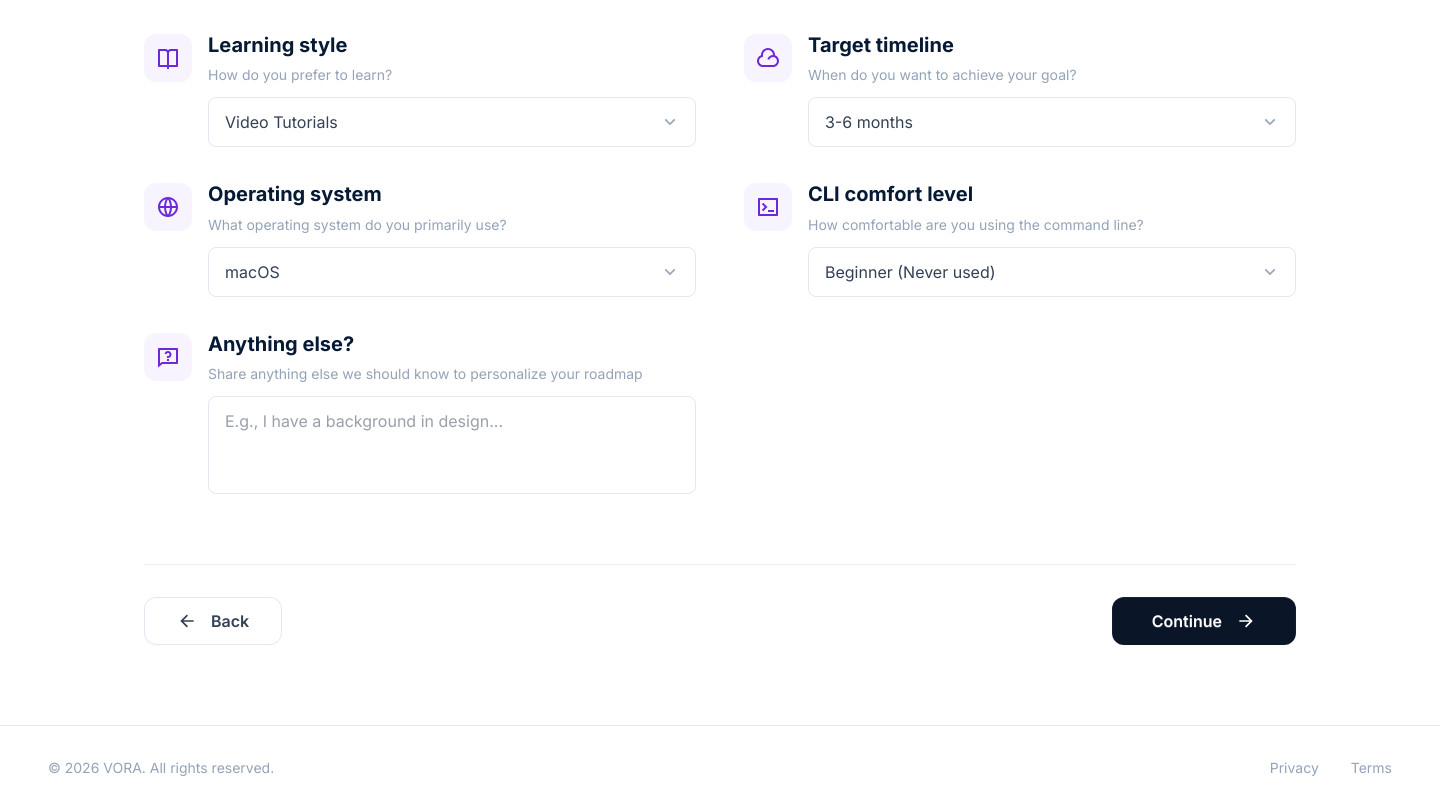
Scenario: OnboardingMain — learning-path substep › advances a frontend learner from preferences to the framework/styling/project cards
(page scrolled)
Click the button "Continue".
click(1204, 621)  # box [1112,597,1296,645]
(page scrolled)
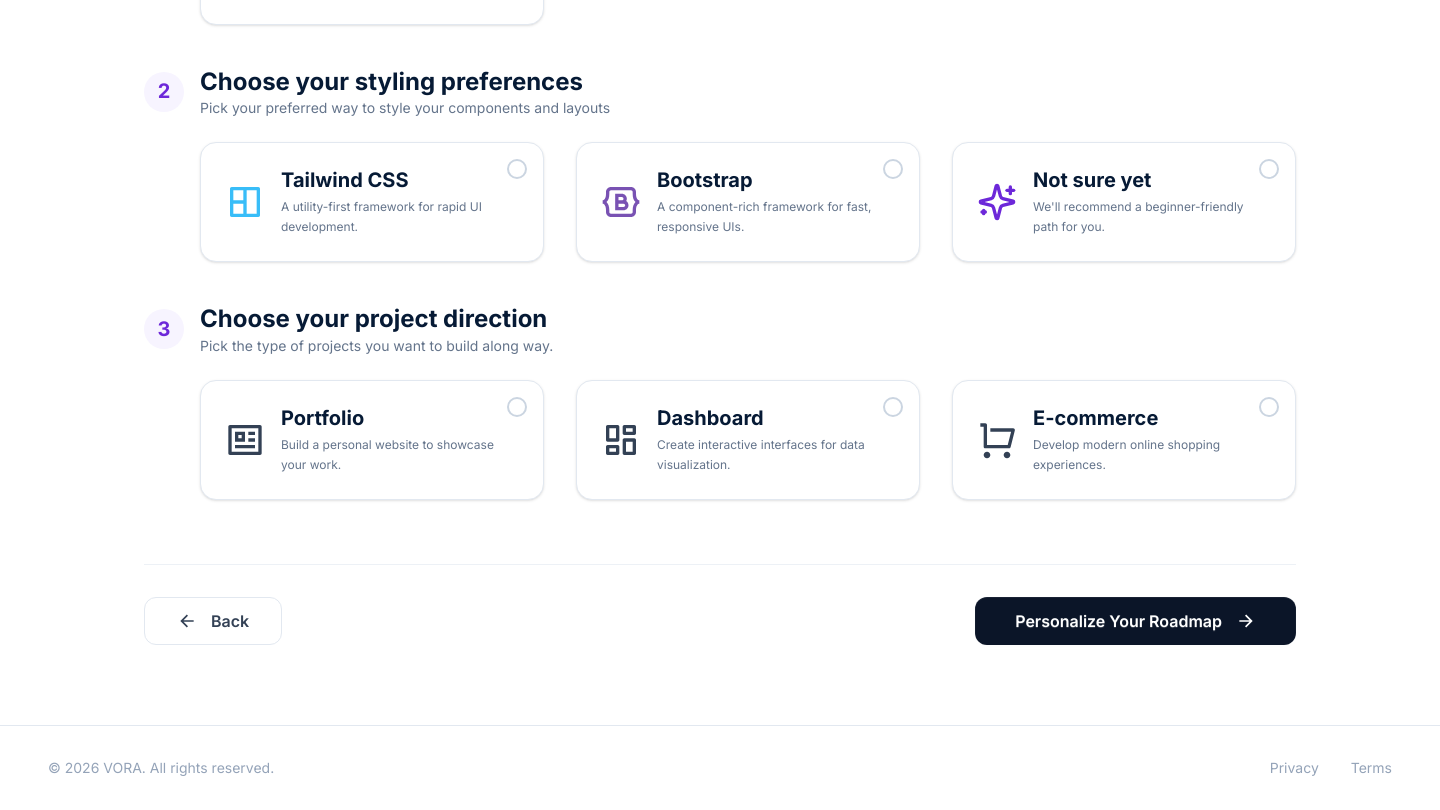
Now the heading "Choose your styling preferences" is shown, box [200,65,610,98]
